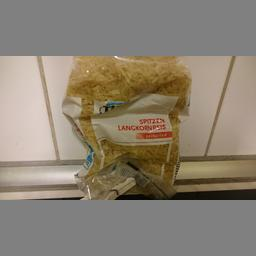rice: (58, 54, 191, 198)
